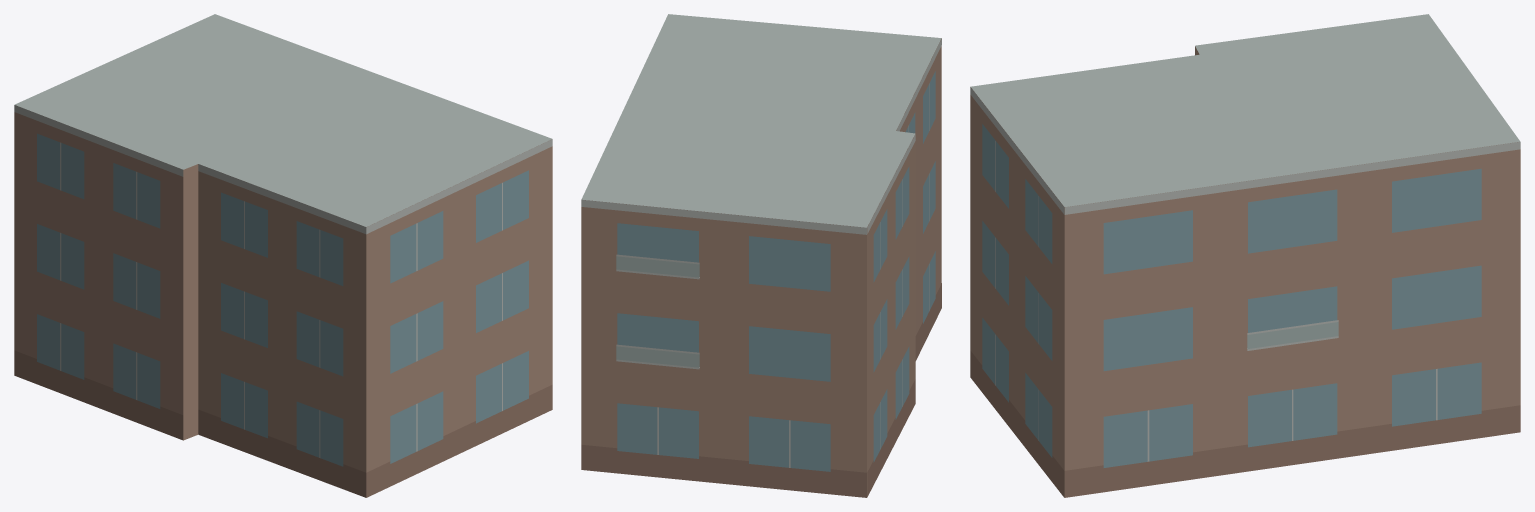
File: survey-upis-32568975.glb
The picture shows the model from 3 angles, left to right: view 1: azimuth 30°, elevation 25°; view 2: azimuth 150°, elevation 25°; view 3: azimuth 270°, elevation 25°; orthographic projection. The views are drawn at different scales.
Visible parts, largest first — view 1: survey-upis-32568975.tmp; view 2: survey-upis-32568975.tmp; view 3: survey-upis-32568975.tmp.
Boxes of the visible parts, x1,y1,x2,y2 form: survey-upis-32568975.tmp: (14,14,552,497); survey-upis-32568975.tmp: (581,14,941,497); survey-upis-32568975.tmp: (970,14,1520,497).
Size of the model in its own units: 13.05 by 9.15 by 15.7.
